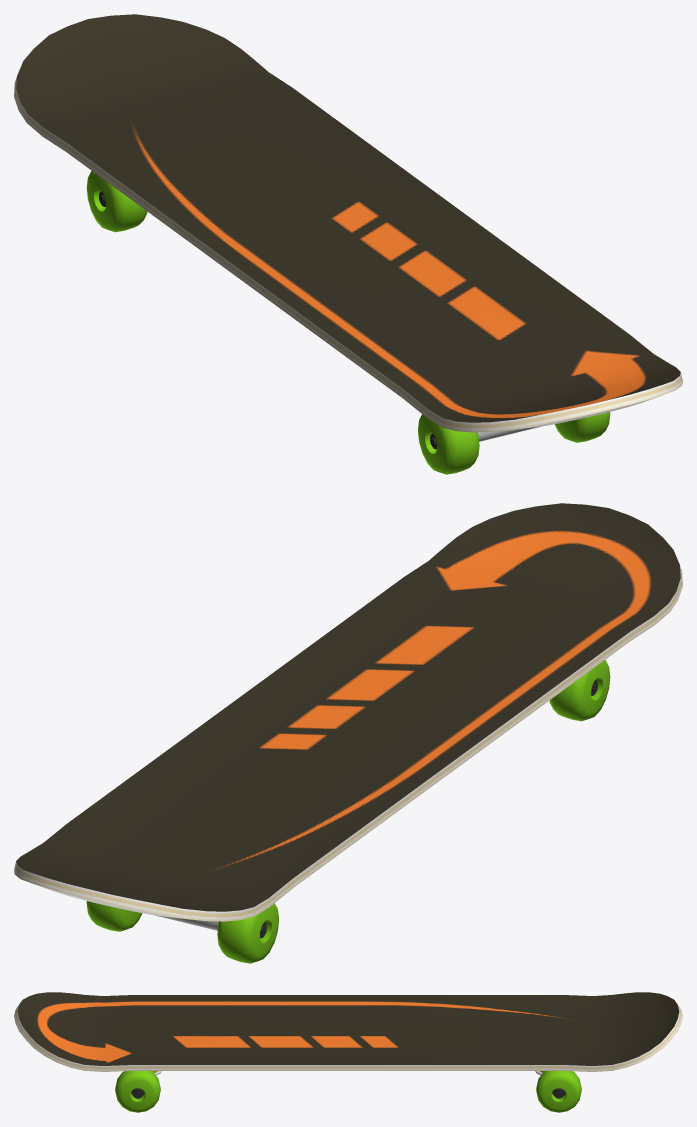
Rendered from skateboard.glb.
The picture shows the model from 3 angles, top to bottom: view 1: azimuth 30°, elevation 25°; view 2: azimuth 150°, elevation 25°; view 3: azimuth 270°, elevation 25°; orthographic projection. The views are drawn at different scales.
Visible parts, largest first — view 1: Object_2, Object_3; view 2: Object_2, Object_3; view 3: Object_2, Object_3, Object_6.
Boxes of the visible parts, <box> form: Object_2: <box>14,14,682,432</box>; Object_3: <box>86,170,610,474</box>; Object_2: <box>14,503,682,921</box>; Object_3: <box>86,659,610,963</box>; Object_2: <box>14,992,682,1071</box>; Object_3: <box>115,1071,581,1112</box>; Object_6: <box>131,1088,565,1098</box>.
Size of the model in its own units: 20 by 10.43 by 80.23.
5 materials, 1 textured.
